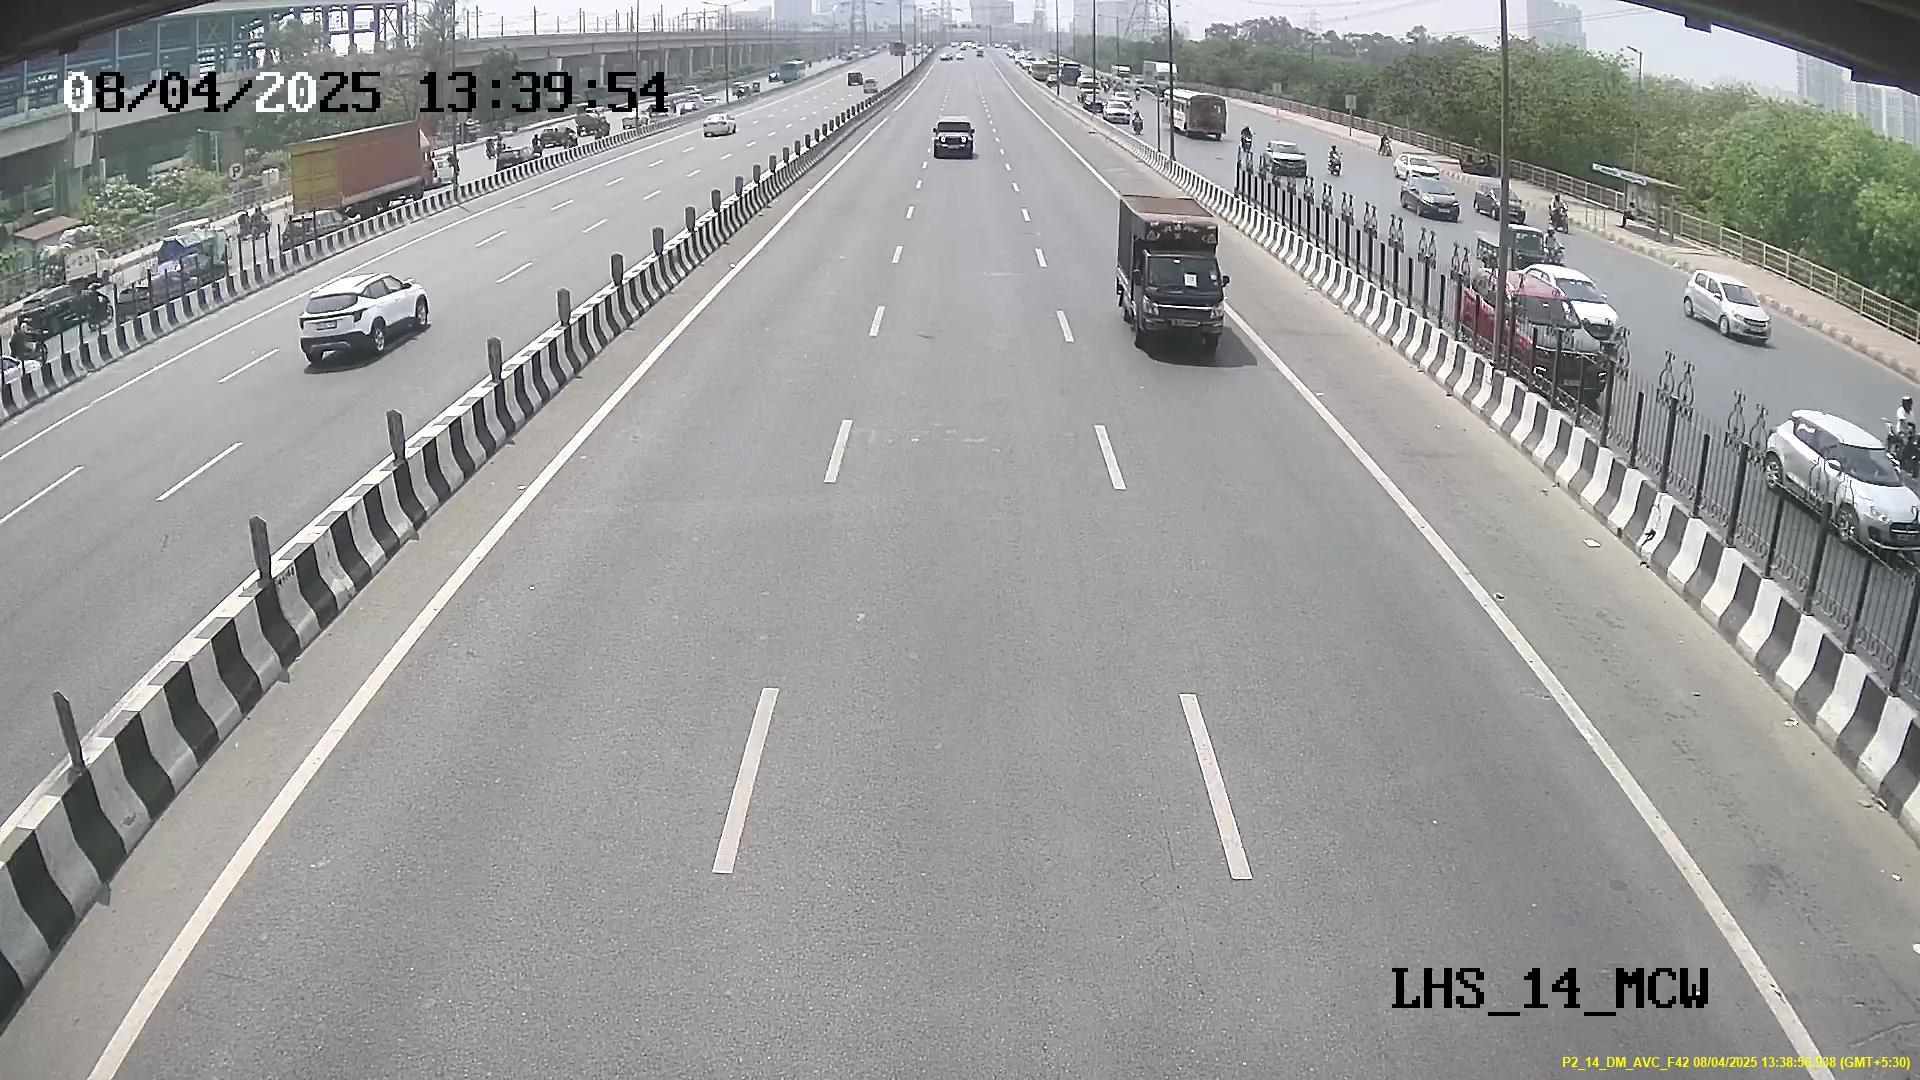car: (1125, 240, 1230, 355)
